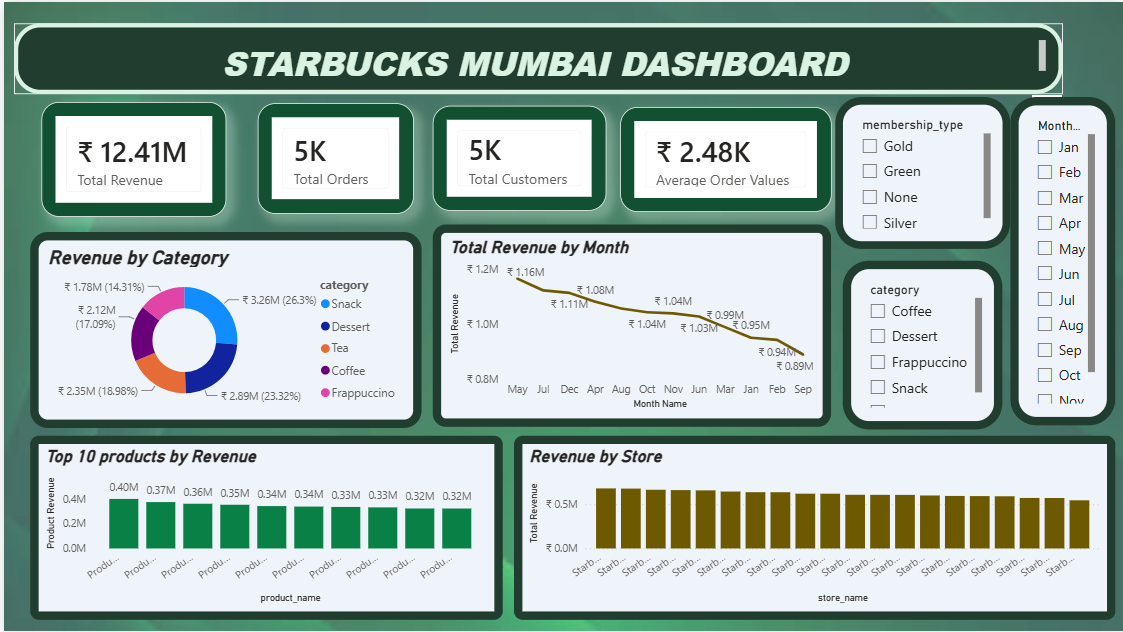

What the dashboard file says about the page in this screenshot:
{"tool":"powerbi","page":{"name":"Page 1","canvas":[1280,720],"ordinal":0},"visuals":[{"type":"cardVisual","fields":{"Data":["customers.total revenue"]},"box":[42.5,113.8,211.2,131.2],"z":0},{"type":"cardVisual","fields":{"Data":["customers.total orders"]},"box":[290,116.2,178.8,126.2],"z":1000},{"type":"cardVisual","fields":{"Data":["customers.total customers"]},"box":[490,118.8,198.8,120],"z":2000},{"type":"cardVisual","fields":{"Data":["customers.average order values"]},"box":[703.8,120,241.2,120],"z":3000},{"type":"donutChart","title":"Revenue by Category","fields":{"Category":["products.category"],"Y":["customers.Total Revenue"]},"box":[30,262.5,447.5,223.8],"z":4000},{"type":"clusteredColumnChart","title":"Top 10 products by Revenue","fields":{"Category":["products.product_name"],"Y":["customers.Product Revenue"]},"box":[30,496.2,540,210],"z":6000},{"type":"textbox","box":[12,24,1198,81],"z":8000},{"type":"slicer","fields":{"Values":["customers.membership_type"]},"box":[950,108.8,200,173.8],"z":9000},{"type":"slicer","fields":{"Values":["products.category"]},"box":[958.8,296.2,182.5,192.5],"z":10000},{"type":"slicer","fields":{"Values":["orders.Month Name"]},"box":[1150,108.8,120,375],"z":11000},{"type":"lineChart","title":"Total Revenue by Month ","fields":{"Category":["orders.Month Name"],"Y":["customers.Total Revenue"]},"box":[490,253.8,455,231.2],"z":11001},{"type":"clusteredColumnChart","title":" Revenue by Store","fields":{"Category":["stores.store_name"],"Y":["customers.Total Revenue"]},"box":[582.5,496.2,687.5,210],"z":11002}]}

Visuals, with their boxes in screenshot pixels (x1, y1, x2, y2), scaled from the page's 1280x720 canvas onto the 1123x632 screenshot:
cardVisual - customers.total revenue: {"left": 37, "top": 100, "right": 223, "bottom": 215}
cardVisual - customers.total orders: {"left": 254, "top": 102, "right": 411, "bottom": 213}
cardVisual - customers.total customers: {"left": 430, "top": 104, "right": 604, "bottom": 210}
cardVisual - customers.average order values: {"left": 617, "top": 105, "right": 829, "bottom": 211}
"Revenue by Category" donutChart: {"left": 26, "top": 230, "right": 419, "bottom": 427}
"Top 10 products by Revenue" clusteredColumnChart: {"left": 26, "top": 436, "right": 500, "bottom": 620}
textbox: {"left": 11, "top": 21, "right": 1062, "bottom": 92}
slicer - customers.membership_type: {"left": 833, "top": 96, "right": 1009, "bottom": 248}
slicer - products.category: {"left": 841, "top": 260, "right": 1001, "bottom": 429}
slicer - orders.Month Name: {"left": 1009, "top": 96, "right": 1114, "bottom": 425}
"Total Revenue by Month " lineChart: {"left": 430, "top": 223, "right": 829, "bottom": 426}
" Revenue by Store" clusteredColumnChart: {"left": 511, "top": 436, "right": 1114, "bottom": 620}
